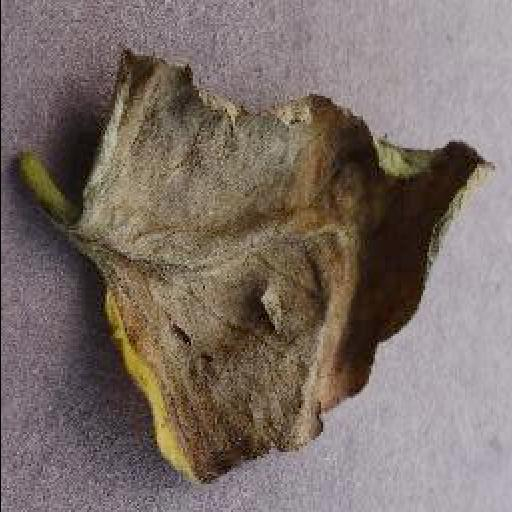disease_tomato: (66, 50, 502, 492)
